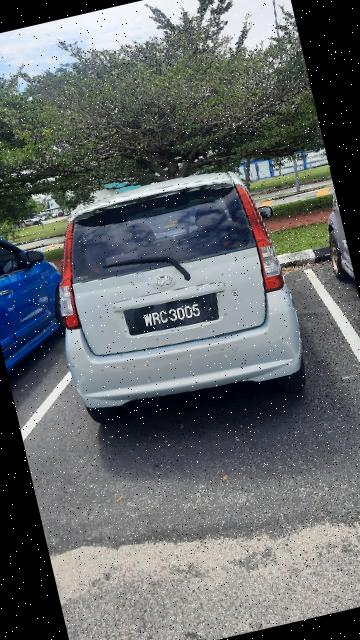License_Plate: (122, 286, 228, 346)
car: (30, 158, 319, 446)
